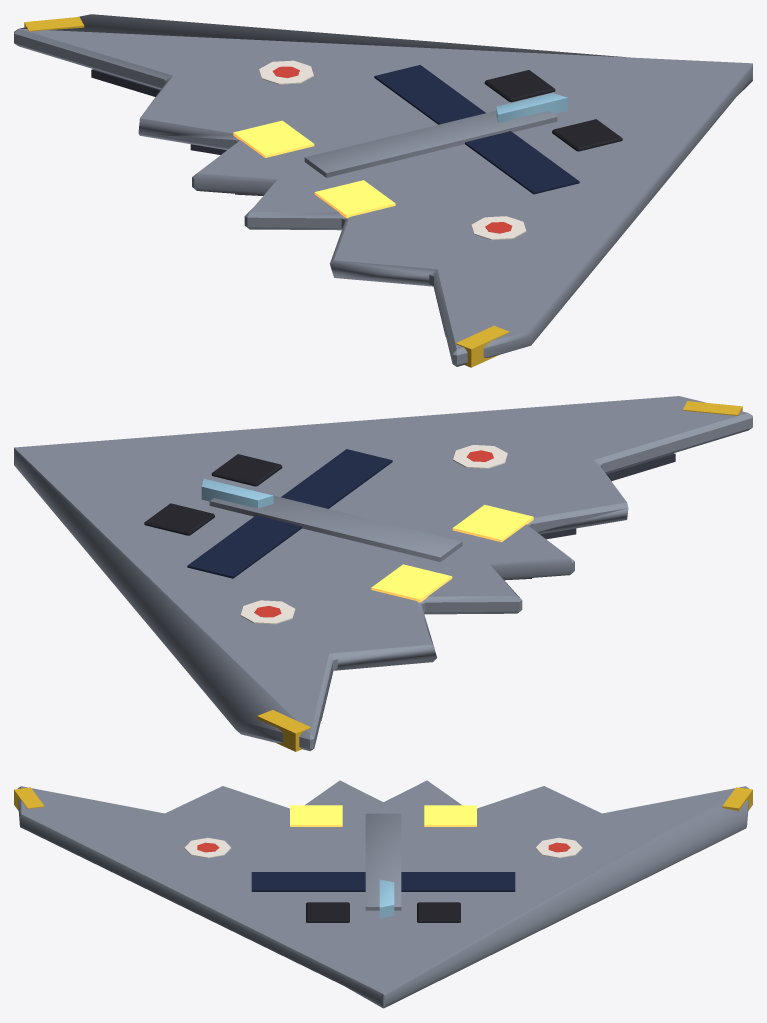
Rendered from bomber.glb.
The picture shows the model from 3 angles, top to bottom: view 1: azimuth 30°, elevation 25°; view 2: azimuth 150°, elevation 25°; view 3: azimuth 270°, elevation 25°; orthographic projection. The views are drawn at different scales.
Visible parts, largest first — view 1: bomber; view 2: bomber; view 3: bomber.
Part boxes in pixels (<box>): bomber: <box>14,14,752,367</box>; bomber: <box>14,396,752,751</box>; bomber: <box>14,780,752,1008</box>.
Size of the model in its own units: 34.8 by 2.41 by 50.49.
1 material, 1 textured.
